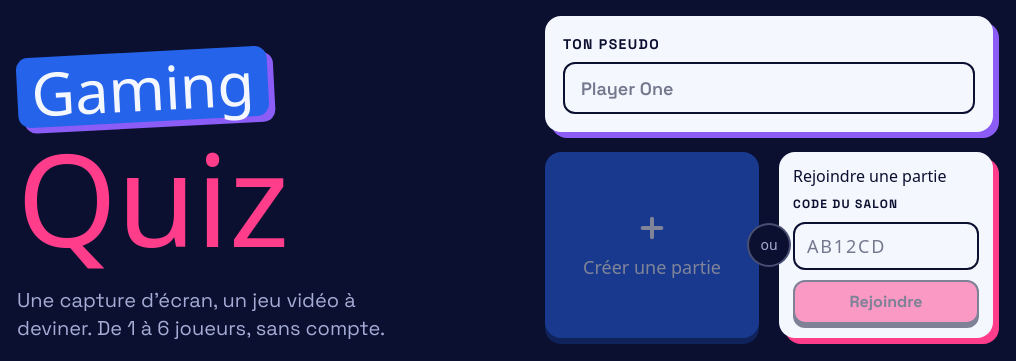
Test: HomeView › enables the create button once a pseudo is entered
Expected: the button "Créer une partie" is disabled, [545,152,759,338]
Step 1. Type "Camille" into the field labelled "Ton pseudo" → [769, 88], box [563,62,975,114]
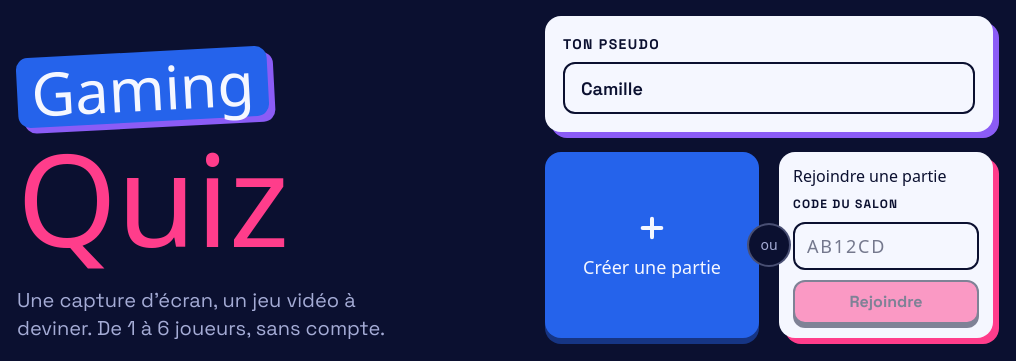
Now the button "Créer une partie" is enabled, box [545,152,759,338]
